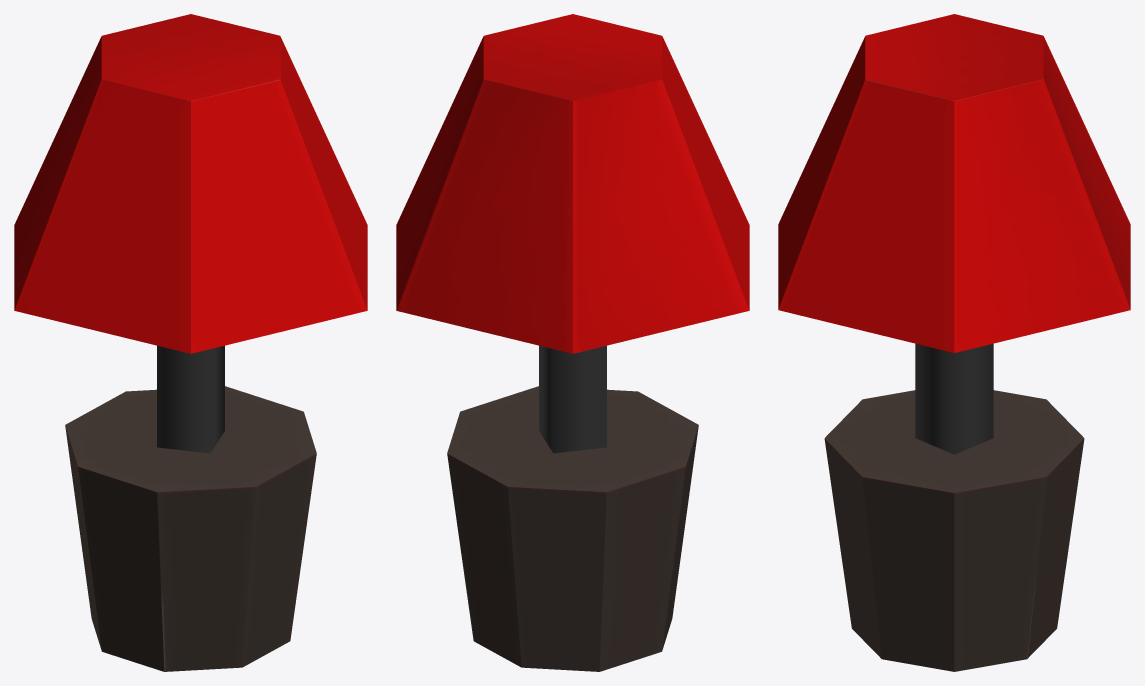
Rendered from Lamps_night_1A.fbx.
3 views of the same model, side by side, from view 1: azimuth 30°, elevation 25°; view 2: azimuth 150°, elevation 25°; view 3: azimuth 270°, elevation 25° (orthographic).
Visible parts, largest first — view 1: polySurface1487; view 2: polySurface1487; view 3: polySurface1487.
Boxes of the visible parts, left/top/right/bottom form: polySurface1487: left=14, top=14, right=367, bottom=671; polySurface1487: left=396, top=14, right=749, bottom=671; polySurface1487: left=778, top=14, right=1130, bottom=671.
Size of the model in its own units: 0.5362 by 0.8307 by 0.4643.
